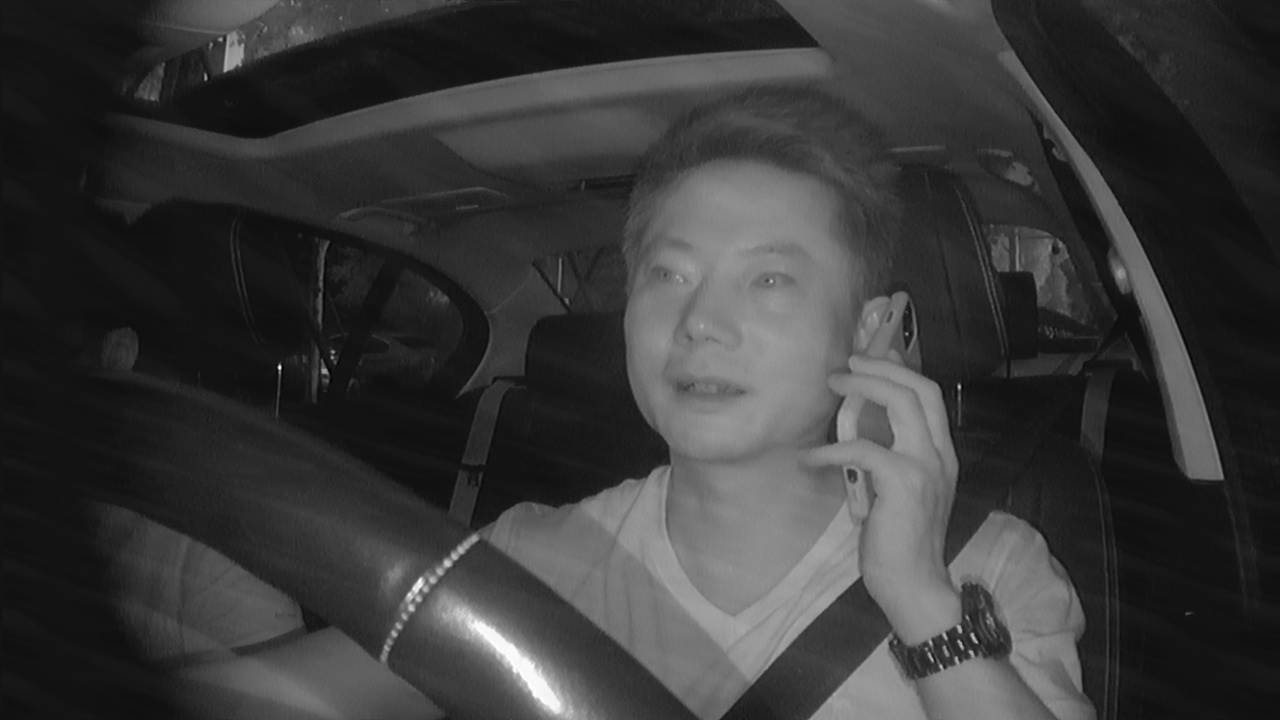hand: (811, 349, 967, 591)
